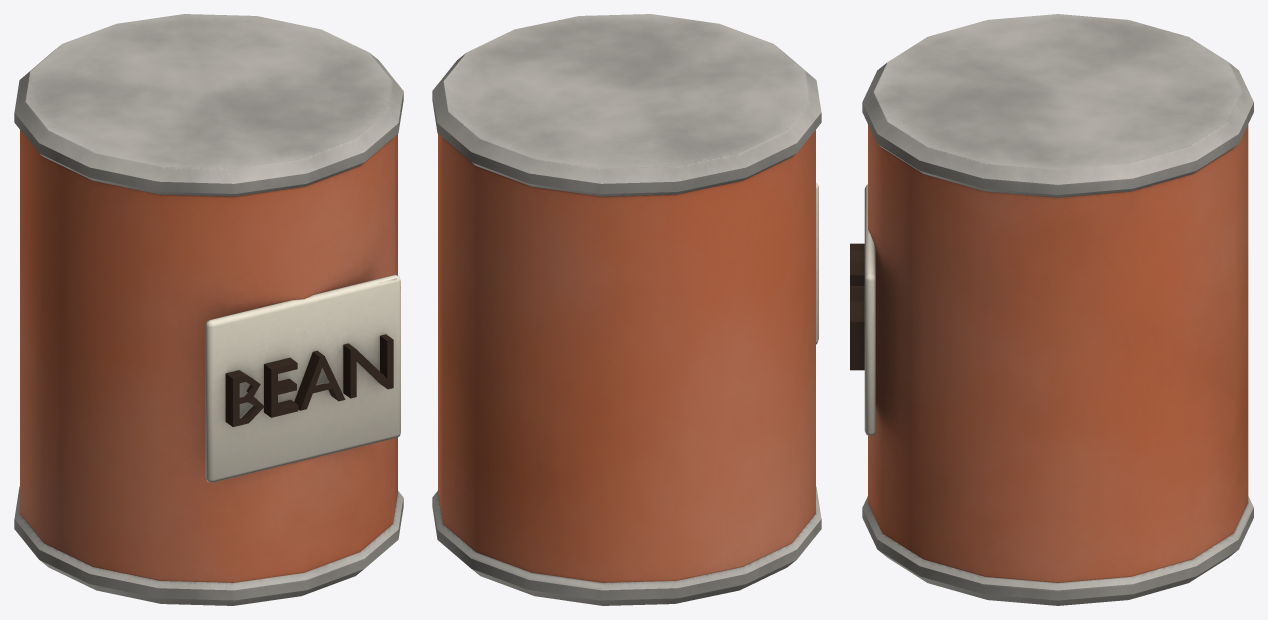
File: canned_food.fbx
3 renders of one model, left to right at view 1: azimuth 30°, elevation 25°; view 2: azimuth 150°, elevation 25°; view 3: azimuth 270°, elevation 25°, orthographic.
Visible parts, largest first — view 1: Body; view 2: Body; view 3: Body.
Boxes of the visible parts, x1,y1,x2,y2 form: Body: (14, 14, 403, 605); Body: (432, 14, 821, 605); Body: (850, 14, 1253, 605).
Bounding box in the file's own units: 0.35 × 0.43 × 0.361.
Materials: 1 (1 with a texture image).
